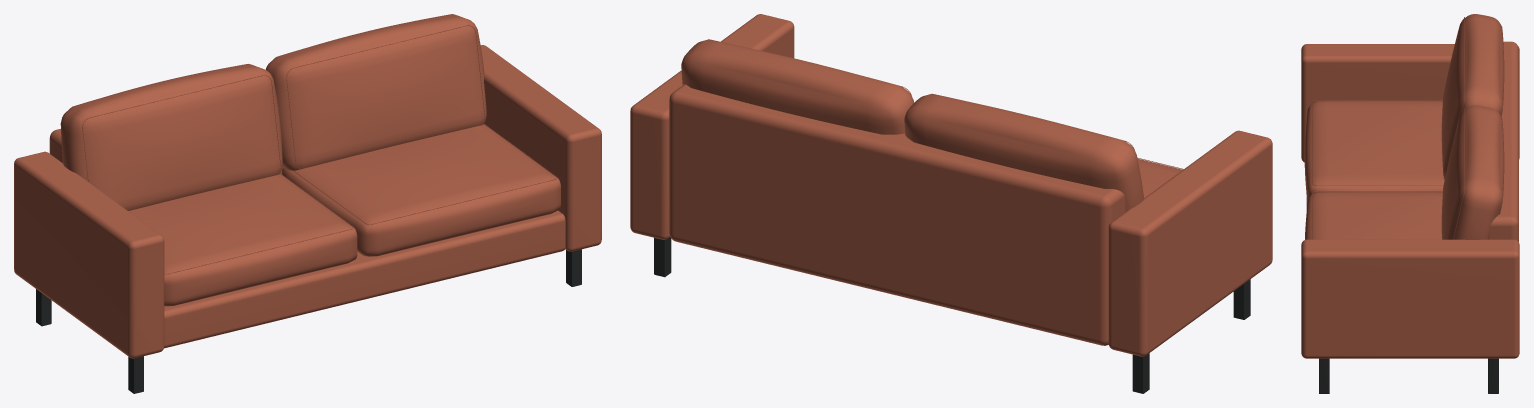
The model's file is forma-sofa.glb.
The picture shows the model from 3 angles, left to right: view 1: azimuth 30°, elevation 25°; view 2: azimuth 150°, elevation 25°; view 3: azimuth 270°, elevation 25°; orthographic projection. The views are drawn at different scales.
Parts seen in each view (by area): view 1: Right Back Cushion.001, Left Back Cushion.001, Right Seat Cushion.001, Left Arm.001, Left Seat Cushion.001, Base Upholstered Rail.001, Right Arm.001, Left Front Steel Leg.001, Right Front Steel Leg.001; view 2: Rear Upholstered Panel.001, Left Arm.001, Left Back Cushion.001, Right Back Cushion.001, Right Arm.001, Left Seat Cushion.001, Left Rear Steel Leg.001, Right Rear Steel Leg.001, Left Front Steel Leg.001; view 3: Right Arm.001, Left Seat Cushion.001, Left Arm.001, Right Back Cushion.001, Right Seat Cushion.001, Left Back Cushion.001, Rear Upholstered Panel.001, Right Front Steel Leg.001, Right Rear Steel Leg.001, Left Seat Cushion_Piping.001.
Boxes of the visible parts, x1,y1,x2,y2 form: Right Back Cushion.001: (266,14,486,170); Left Back Cushion.001: (60,64,282,210); Right Seat Cushion.001: (282,124,560,256); Left Arm.001: (14,151,164,358); Left Seat Cushion.001: (128,174,357,306); Base Upholstered Rail.001: (164,210,565,348); Right Arm.001: (480,45,601,251); Left Front Steel Leg.001: (128,356,143,393); Right Front Steel Leg.001: (566,249,581,286); Rear Upholstered Panel.001: (669,84,1125,345); Left Arm.001: (1108,130,1272,356); Left Back Cushion.001: (904,93,1144,211); Right Back Cushion.001: (681,39,914,134); Right Arm.001: (630,14,794,239); Left Seat Cushion.001: (1137,159,1182,197); Left Rear Steel Leg.001: (1132,353,1149,393); Right Rear Steel Leg.001: (654,237,671,277); Left Front Steel Leg.001: (1233,279,1250,319); Right Arm.001: (1301,239,1519,358); Left Seat Cushion.001: (1304,100,1444,201); Left Arm.001: (1301,44,1519,162); Right Back Cushion.001: (1441,105,1504,239); Right Seat Cushion.001: (1305,191,1442,239); Left Back Cushion.001: (1441,14,1504,179); Rear Upholstered Panel.001: (1487,41,1518,241); Right Front Steel Leg.001: (1319,358,1329,393); Right Rear Steel Leg.001: (1488,358,1498,393); Left Seat Cushion_Piping.001: (1312,100,1443,185).
Size of the model in its own units: 2.2 by 0.9626 by 0.96.
